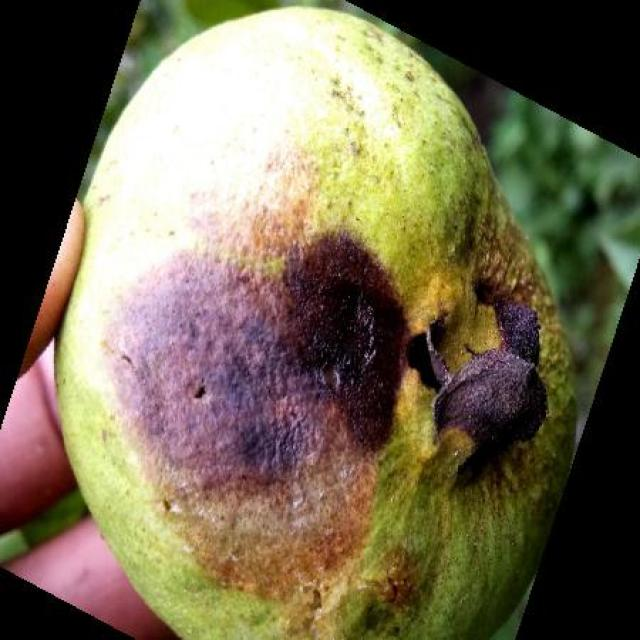Styler and Root: (56, 10, 575, 640)
